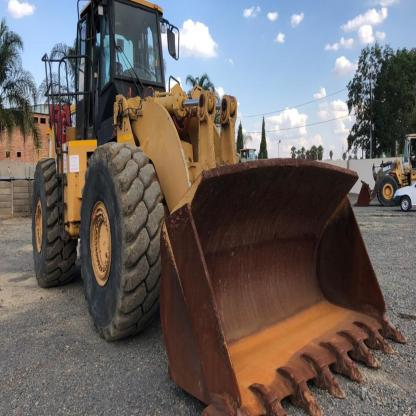bull_dozer/loader/grader: (20, 2, 409, 416)
